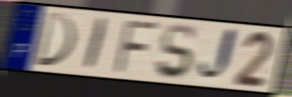2: (234, 29, 276, 90)
D: (32, 10, 77, 70)
F: (111, 19, 163, 75)
I: (82, 16, 111, 72)
J: (196, 25, 240, 85)
S: (154, 22, 196, 81)
